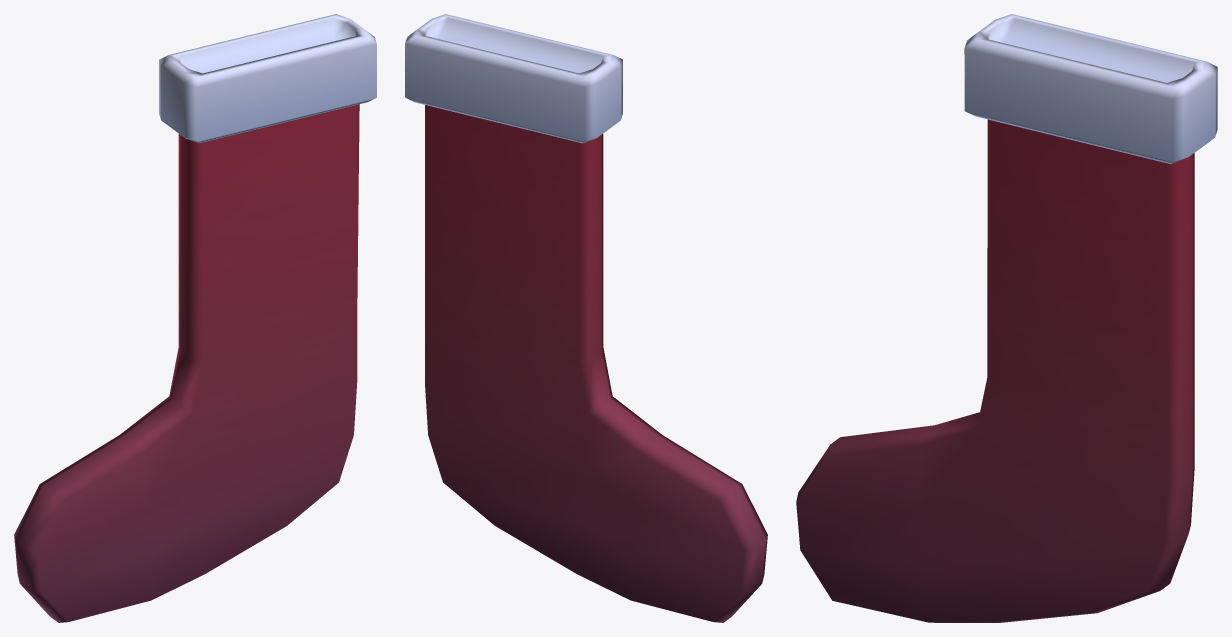
Rendered from christmasStocking.fbx.
3 renders of one model, left to right at view 1: azimuth 30°, elevation 25°; view 2: azimuth 150°, elevation 25°; view 3: azimuth 330°, elevation 25°, orthographic. The views are drawn at different scales.
Visible parts, largest first — view 1: pCube28; view 2: pCube28; view 3: pCube28.
Boxes of the visible parts, x1,y1,x2,y2 form: pCube28: (14, 14, 376, 622); pCube28: (405, 14, 767, 622); pCube28: (796, 14, 1217, 622).
Size of the model in its own units: 0.4137 by 0.6013 by 0.08.
